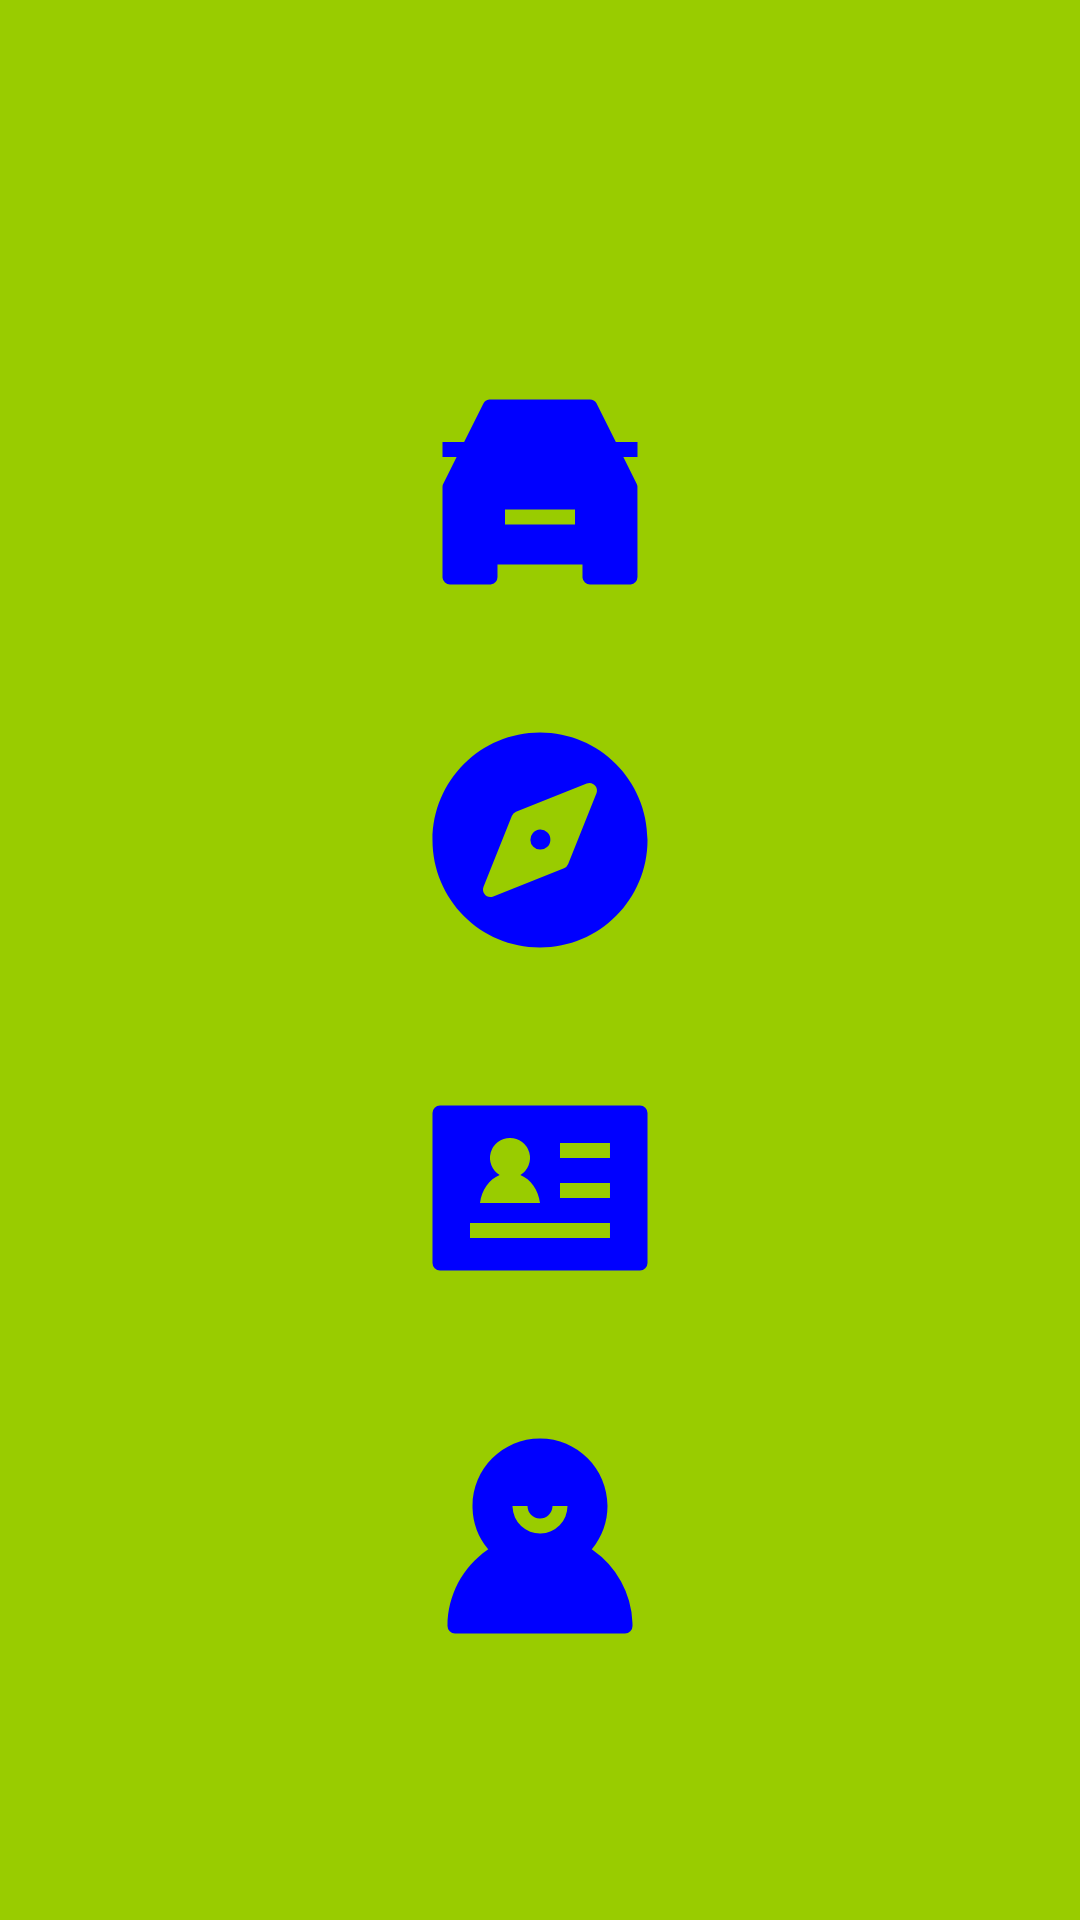

Icons on this 1080 × 1920 Android screen, each with the point to tap as [x,y]:
car: [540,492]
find: [540,840]
license: [540,1188]
mine: [540,1536]
